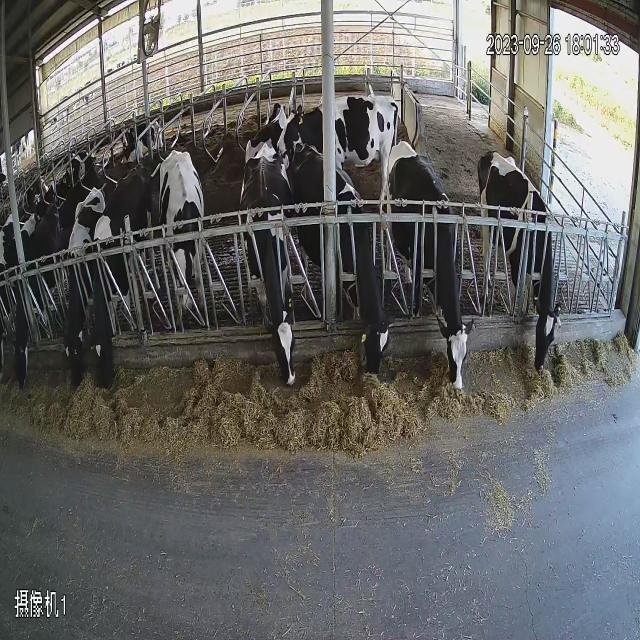feeding: (290, 148, 394, 406), (386, 134, 472, 396), (477, 146, 568, 378), (84, 148, 165, 401), (240, 140, 296, 392), (9, 198, 72, 414), (57, 180, 105, 408)
lying down: (120, 101, 170, 173)
standing: (276, 92, 402, 212), (156, 152, 208, 312)
